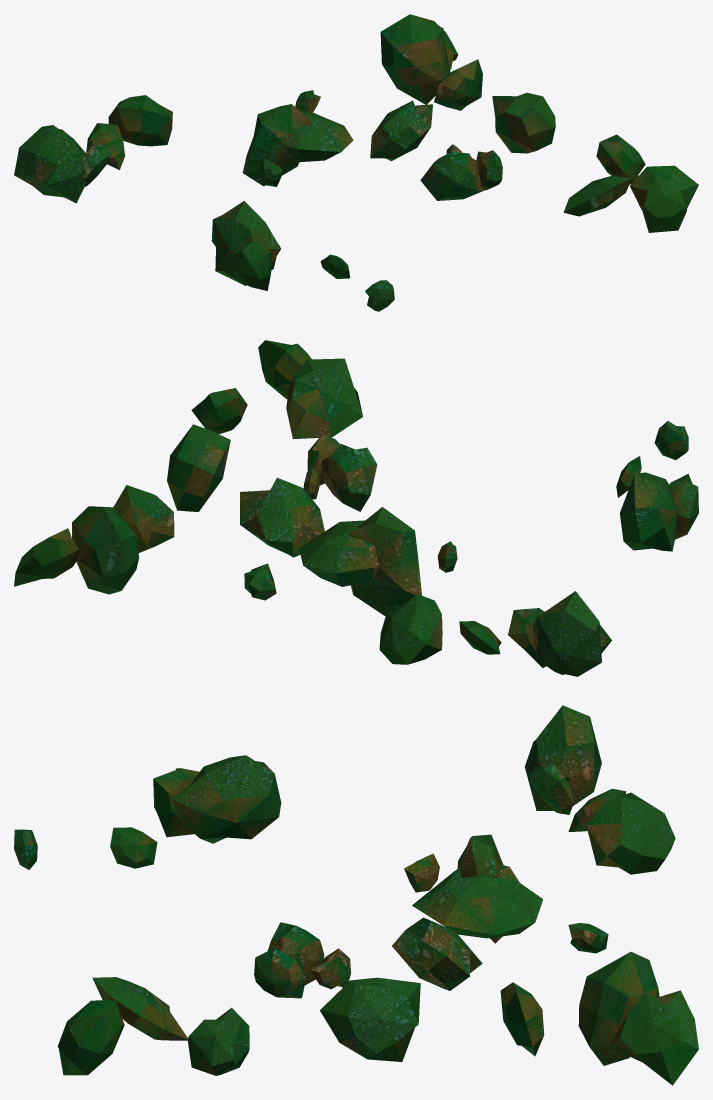
File: pebbles_1.glb
3 renders of one model, top to bottom at view 1: azimuth 30°, elevation 25°; view 2: azimuth 150°, elevation 25°; view 3: azimuth 270°, elevation 25°, orthographic. The views are drawn at different scales.
Parts seen in each view (by area): view 1: pebbles; view 2: pebbles; view 3: pebbles.
Boxes of the visible parts, left/top/right/bottom form: pebbles: left=14, top=14, right=698, bottom=311; pebbles: left=14, top=340, right=698, bottom=676; pebbles: left=14, top=705, right=698, bottom=1085.
Size of the model in its own units: 1.99 by 0.3433 by 1.84.
Materials: 1 (1 with a texture image).
